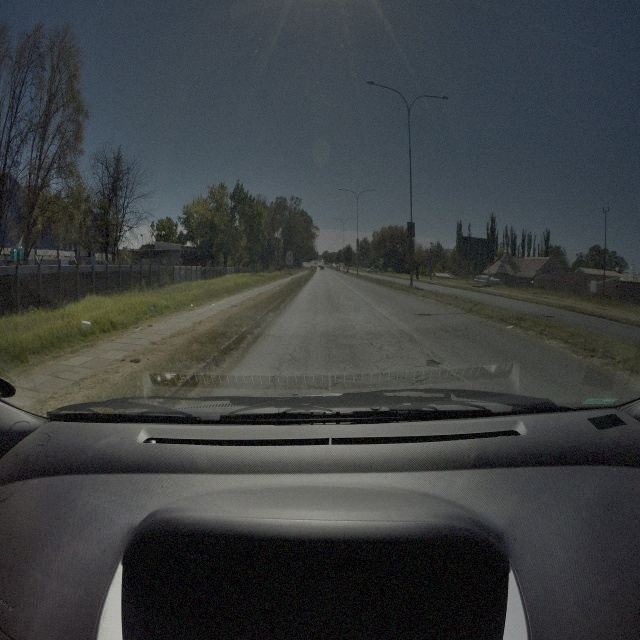pothole: (424, 357, 441, 369)
